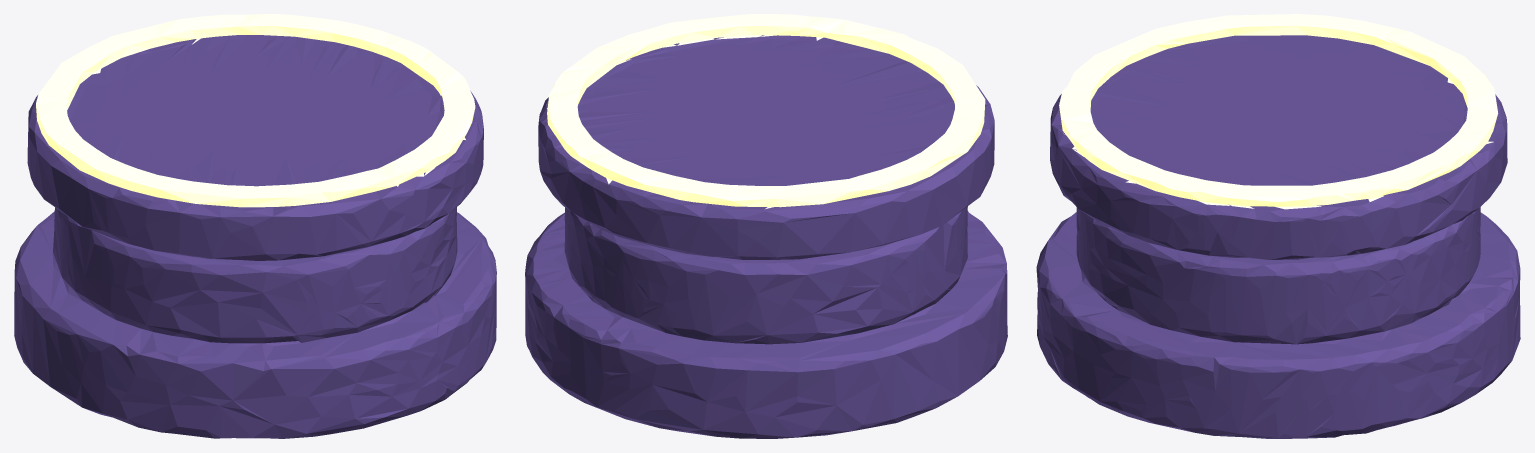
The model's file is pedestal-orange.glb.
The picture shows the model from 3 angles, left to right: view 1: azimuth 30°, elevation 25°; view 2: azimuth 150°, elevation 25°; view 3: azimuth 270°, elevation 25°; orthographic projection.
Visible parts, largest first — view 1: stone, ring-orange; view 2: stone, ring-orange; view 3: stone, ring-orange.
Boxes of the visible parts, x1,y1,x2,y2 form: stone: [14, 35, 496, 438]; ring-orange: [36, 14, 475, 207]; stone: [525, 35, 1007, 438]; ring-orange: [547, 14, 985, 208]; stone: [1036, 35, 1520, 438]; ring-orange: [1059, 14, 1498, 209].
Size of the model in its own units: 1.1 by 0.5927 by 1.1.
